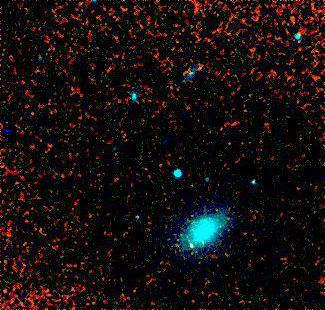star: (174, 232, 204, 262)
